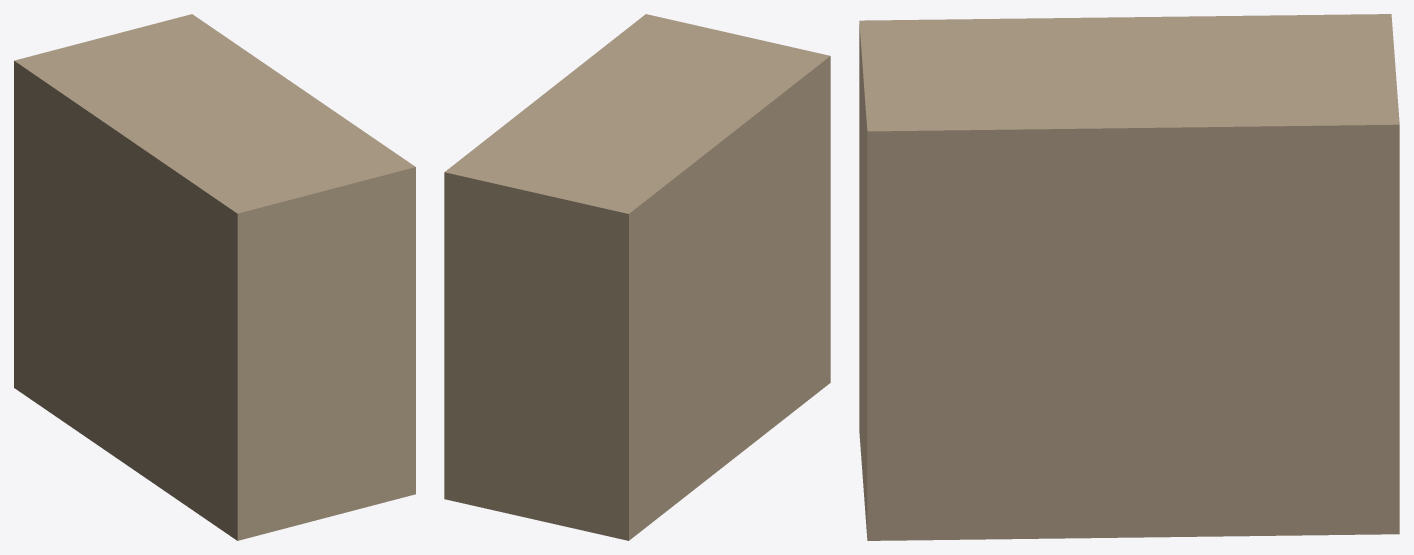
File: bld_164605964.dae
3 renders of one model, left to right at view 1: azimuth 30°, elevation 25°; view 2: azimuth 150°, elevation 25°; view 3: azimuth 270°, elevation 25°, orthographic. The views are drawn at different scales.
Visible parts, largest first — view 1: bld_164605964; view 2: bld_164605964; view 3: bld_164605964.
Part boxes in pixels (x1,y1,x2,y2): bld_164605964: (14,14,415,540); bld_164605964: (444,14,830,540); bld_164605964: (859,14,1399,540).
Bounding box in the file's own units: 4.92 × 9.57 × 8.
